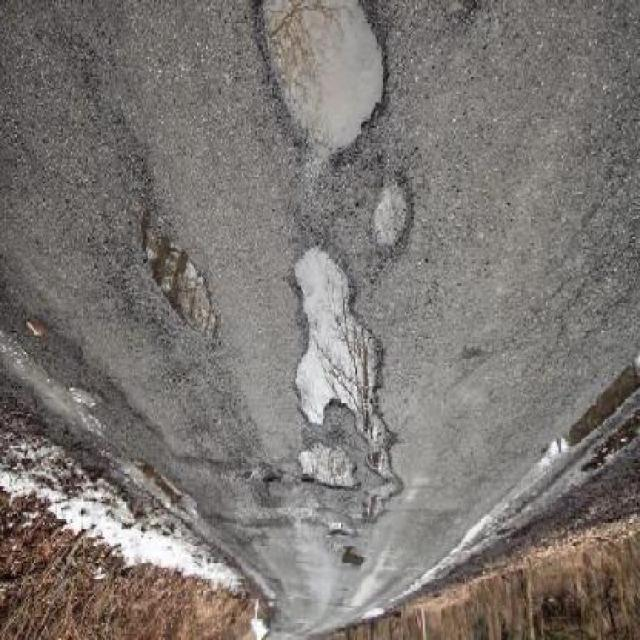pothole: (255, 2, 393, 165), (291, 248, 387, 429), (137, 212, 220, 350), (358, 424, 402, 531), (372, 175, 413, 258), (296, 443, 359, 495), (323, 521, 357, 542)
